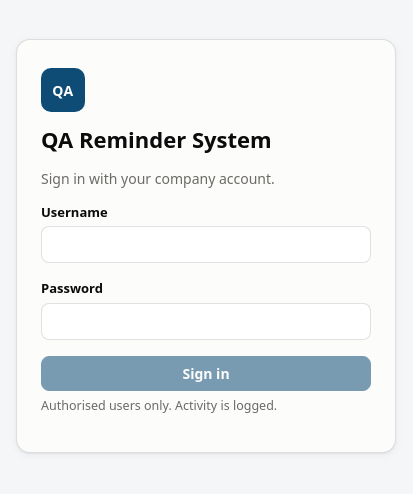
Scenario: authentication flow › shows a generic error on bad credentials
In the field labelled "Username": (206, 245) 41,226 -> 371,263, type "viewer1"
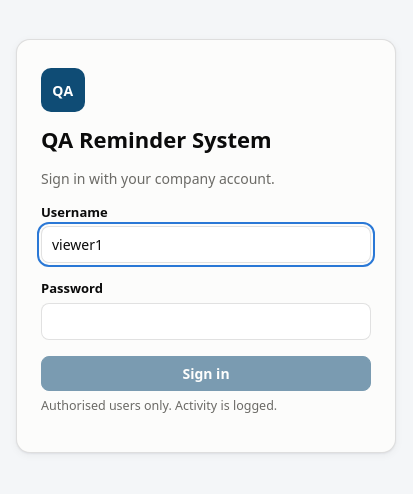
In the password field labelled "Password": (206, 321) 41,303 -> 371,340, type "bad"
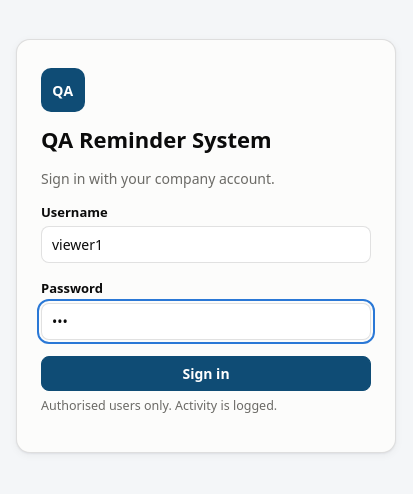
Click the button "Sign in": (206, 373) 41,356 -> 371,391
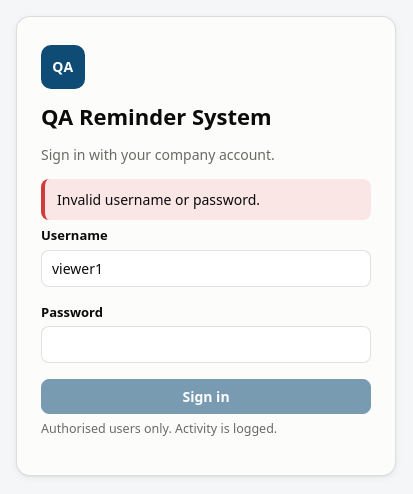
Expected: the text "Invalid username or password." is shown, 57,190 -> 260,209
